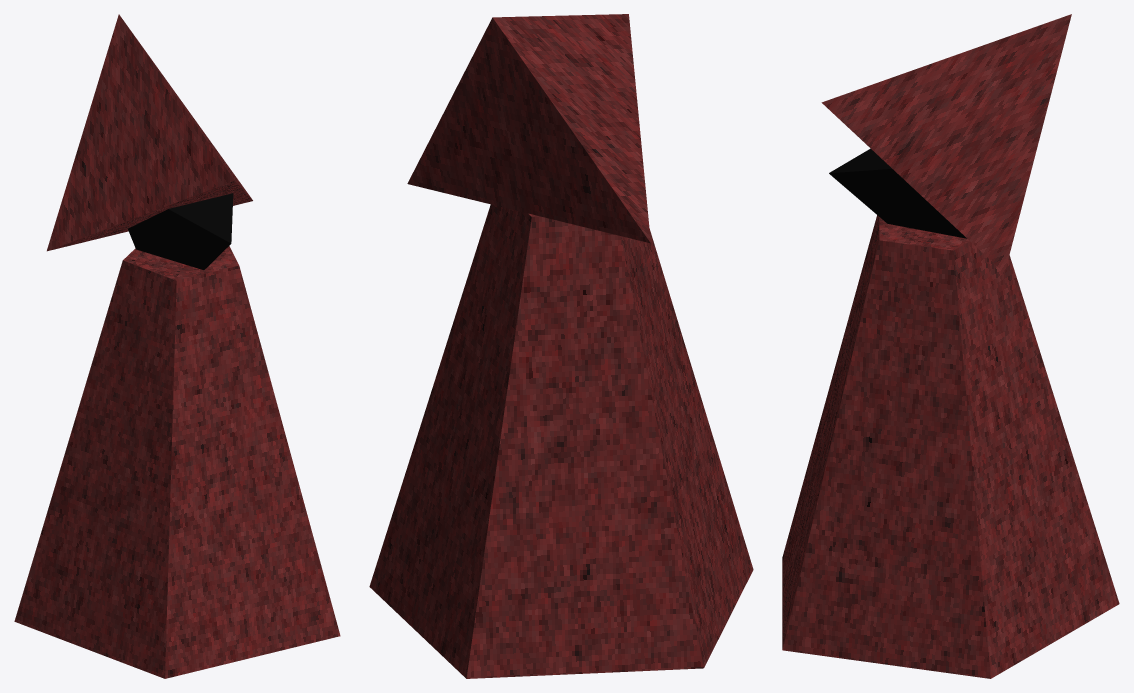
File: summoner.glb
The picture shows the model from 3 angles, left to right: view 1: azimuth 30°, elevation 25°; view 2: azimuth 150°, elevation 25°; view 3: azimuth 270°, elevation 25°; orthographic projection. The views are drawn at different scales.
Visible parts, largest first — view 1: Robe, Hat, Tie; view 2: Robe, Hat; view 3: Robe, Hat, Tie.
Boxes of the visible parts, box(x1,y1,x2,y2) form: Robe: box(14, 246, 340, 678); Hat: box(47, 14, 252, 251); Tie: box(128, 193, 233, 270); Robe: box(369, 204, 753, 678); Hat: box(407, 14, 650, 243); Robe: box(782, 215, 1119, 678); Hat: box(821, 14, 1071, 272); Tie: box(829, 148, 966, 238).
Size of the model in its own units: 1.9 by 3.49 by 1.81.
Materials: 3 (2 with a texture image).
